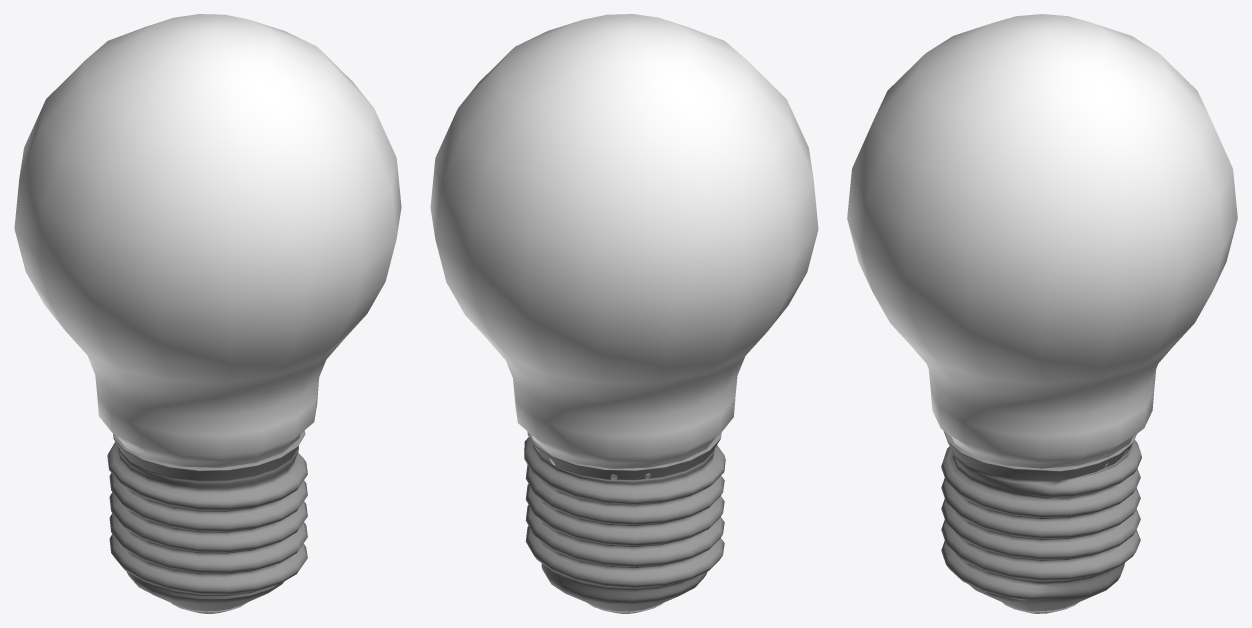
The model's file is Lightbulb.fbx.
3 renders of one model, left to right at view 1: azimuth 30°, elevation 25°; view 2: azimuth 150°, elevation 25°; view 3: azimuth 270°, elevation 25°, orthographic.
Visible parts, largest first — view 1: polySurface6, polySurface5; view 2: polySurface6, polySurface5; view 3: polySurface6, polySurface5.
Boxes of the visible parts, <box> form: polySurface6: <box>14,14,401,467</box>; polySurface5: <box>107,430,307,613</box>; polySurface6: <box>430,14,818,479</box>; polySurface5: <box>524,431,725,613</box>; polySurface6: <box>847,14,1237,468</box>; polySurface5: <box>941,430,1141,613</box>.
Size of the model in its own units: 22.54 by 36.47 by 22.54.
Materials: 1 (1 with a texture image).
